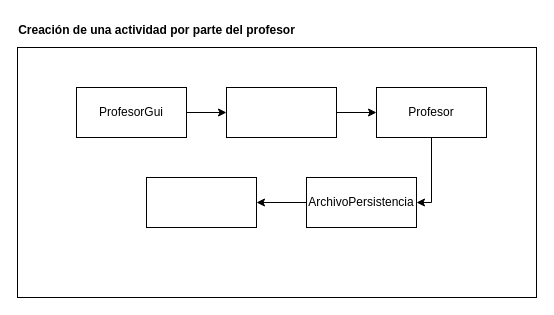
Image size: 554x315. Some labels were removed from this diagram. The shapes that lost their labels are listed below. From the top down, each one's centre as x and y in pixels, then its label:
At [281,112]: "AgregarActividadGui".
At [201,202]: "Actividad".
